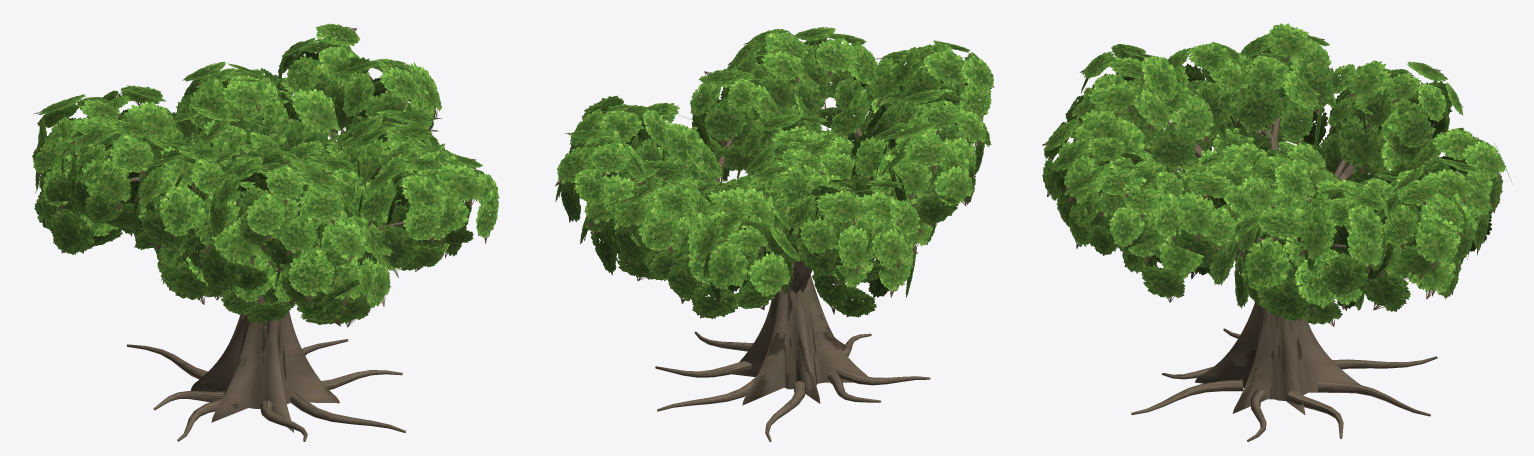
The model's file is banyan.glb.
3 renders of one model, left to right at view 1: azimuth 30°, elevation 25°; view 2: azimuth 150°, elevation 25°; view 3: azimuth 270°, elevation 25°, orthographic. The views are drawn at different scales.
Parts seen in each view (by area): view 1: BigTree-banyan; view 2: BigTree-banyan; view 3: BigTree-banyan.
Boxes of the visible parts, box(x1,y1,x2,y2) form: BigTree-banyan: box(32, 23, 499, 441); BigTree-banyan: box(555, 27, 994, 441); BigTree-banyan: box(1042, 23, 1511, 441).
Bounding box in the file's own units: 18.46 × 14 × 19.89.
1 material, 1 textured.
